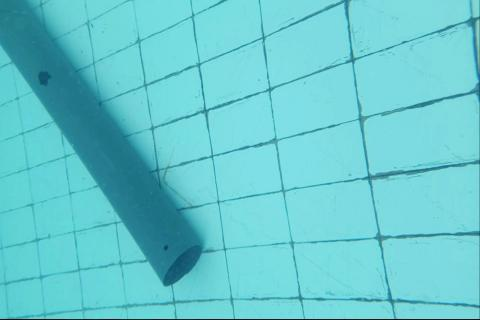kebocoran: (37, 69, 52, 87), (162, 244, 169, 250)
